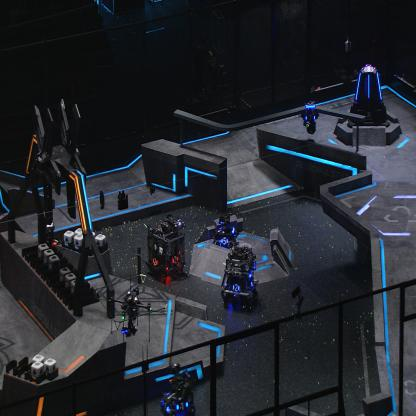car: (146, 217, 186, 284), (221, 246, 258, 309), (159, 364, 196, 416), (212, 213, 237, 249)
